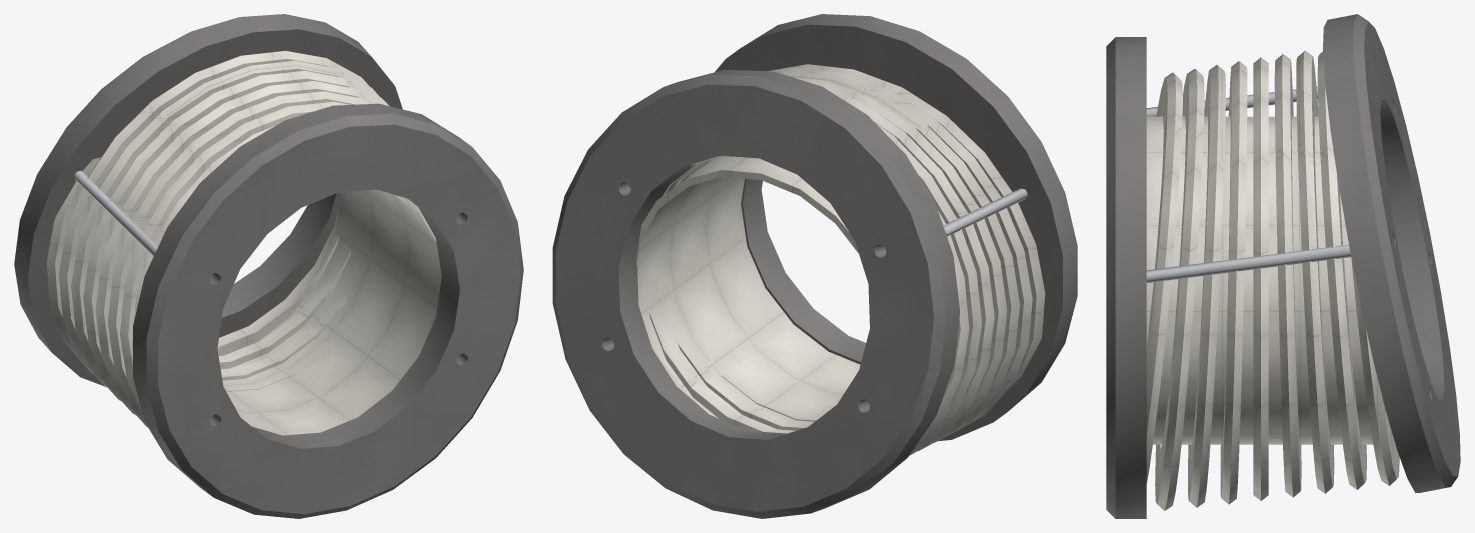
The model's file is ax_rover_11_connector_flexed.glb.
The picture shows the model from 3 angles, left to right: view 1: azimuth 30°, elevation 25°; view 2: azimuth 150°, elevation 25°; view 3: azimuth 270°, elevation 25°; orthographic projection. The views are drawn at different scales.
Parts seen in each view (by area): view 1: ring_front_flange, bellows, ring_rear_flange, bellows_liner, tension_struts; view 2: ring_rear_flange, bellows, ring_front_flange, bellows_liner, tension_struts; view 3: bellows, ring_rear_flange, bellows_liner, ring_front_flange, tension_struts.
Part boxes in pixels (x1=…): ring_front_flange: x1=133, y1=103, x2=523, y2=518; bellows: x1=46, y1=50, x2=436, y2=427; ring_rear_flange: x1=14, y1=14, x2=402, y2=386; bellows_liner: x1=220, y1=189, x2=441, y2=435; tension_struts: x1=74, y1=101, x2=389, y2=256; ring_rear_flange: x1=552, y1=69, x2=959, y2=518; bellows: x1=641, y1=64, x2=1045, y2=455; ring_front_flange: x1=715, y1=14, x2=1077, y2=440; bellows_liner: x1=636, y1=156, x2=860, y2=429; tension_struts: x1=943, y1=188, x2=1027, y2=236; bellows: x1=1146, y1=50, x2=1399, y2=510; ring_rear_flange: x1=1323, y1=14, x2=1460, y2=493; bellows_liner: x1=1146, y1=116, x2=1373, y2=444; ring_front_flange: x1=1106, y1=37, x2=1146, y2=518; tension_struts: x1=1146, y1=86, x2=1351, y2=282.
Bounding box in the file's own units: 1.56 × 1.64 × 1.14.
Materials: 3 (3 with a texture image).
